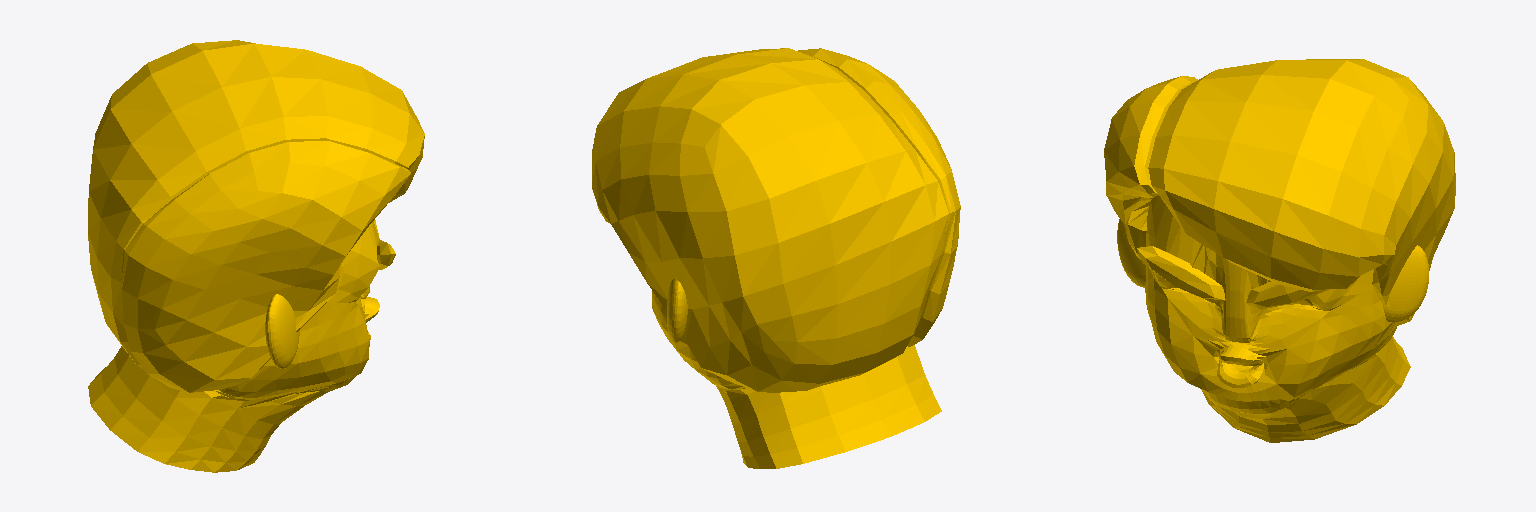
Rendered from trump_head_05.obj.
3 renders of one model, left to right at view 1: azimuth 30°, elevation 25°; view 2: azimuth 150°, elevation 25°; view 3: azimuth 270°, elevation 25°, orthographic.
Parts seen in each view (by area): view 1: eyebrow_1.1; view 2: eyebrow_1.1; view 3: eyebrow_1.1.
Boxes of the visible parts, x1,y1,x2,y2 form: eyebrow_1.1: [88, 40, 424, 472]; eyebrow_1.1: [592, 48, 960, 468]; eyebrow_1.1: [1104, 59, 1455, 442].
Size of the model in its own units: 30.34 by 34.49 by 29.21.